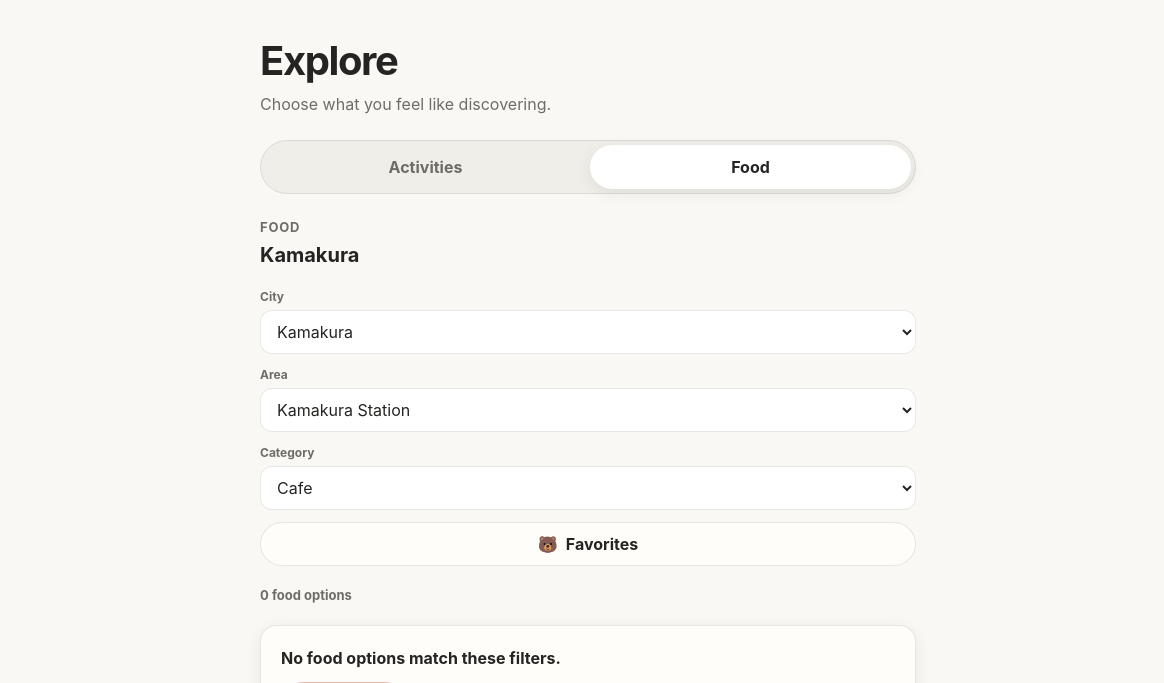
Explore Food real catalogue › removes a contextual area through the control and reveals matching Food
Expected: the button "Hōkoku-ji Matcha Tea" is not shown
Select "All areas" in the dropdown labelled "Area". click: (588, 410)
box: [260,388,916,432]
(page scrolled)
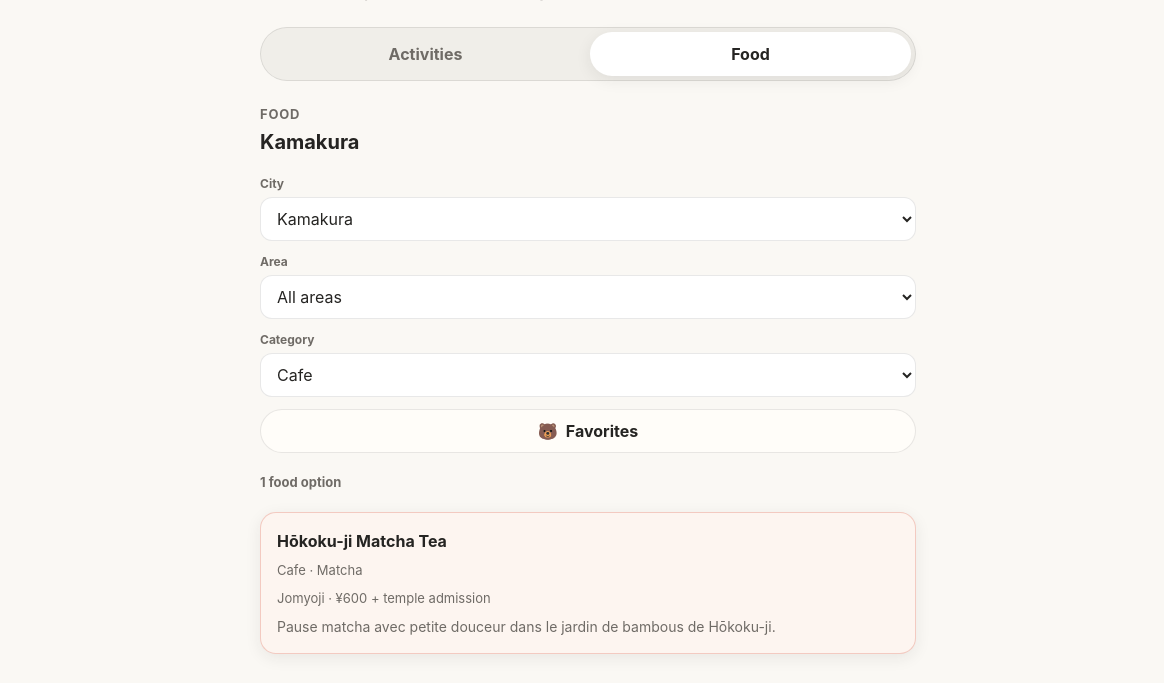
Expected: the button "Hōkoku-ji Matcha Tea" is shown, [260,512,916,654]
